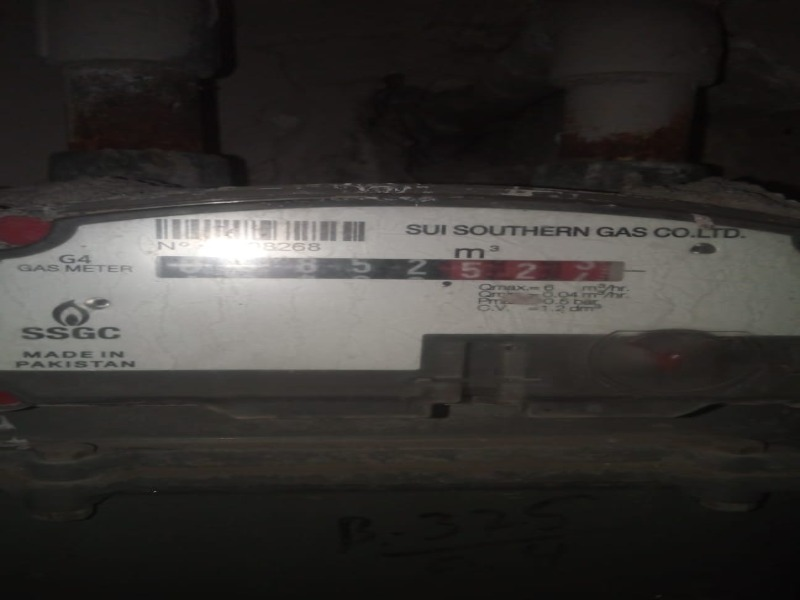ssgc: (146, 247, 630, 294)
